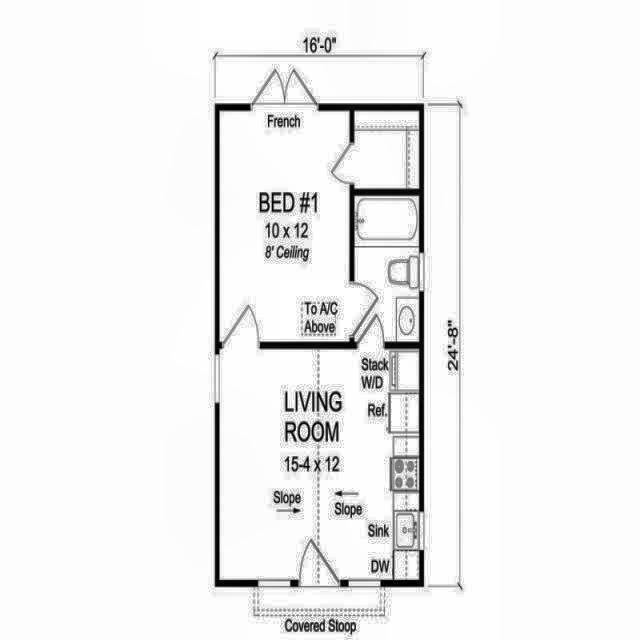room: (219, 348, 419, 580), (219, 111, 349, 343), (354, 196, 419, 342), (355, 111, 419, 189)
